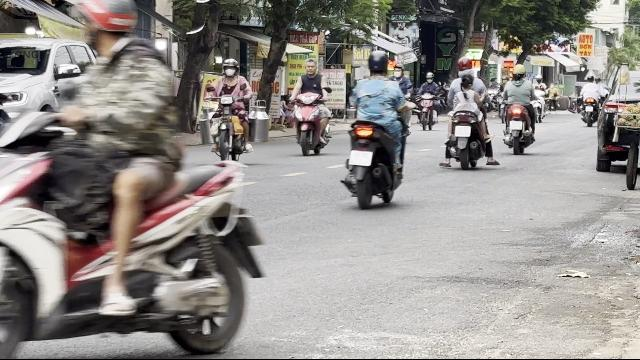helmet: (366, 50, 388, 76), (220, 58, 238, 78)
licenseplate: (349, 150, 373, 166)
motorcyclist: (0, 0, 272, 356), (341, 49, 411, 207), (208, 58, 252, 163), (288, 59, 332, 155)
nohelmet: (304, 59, 318, 75)
